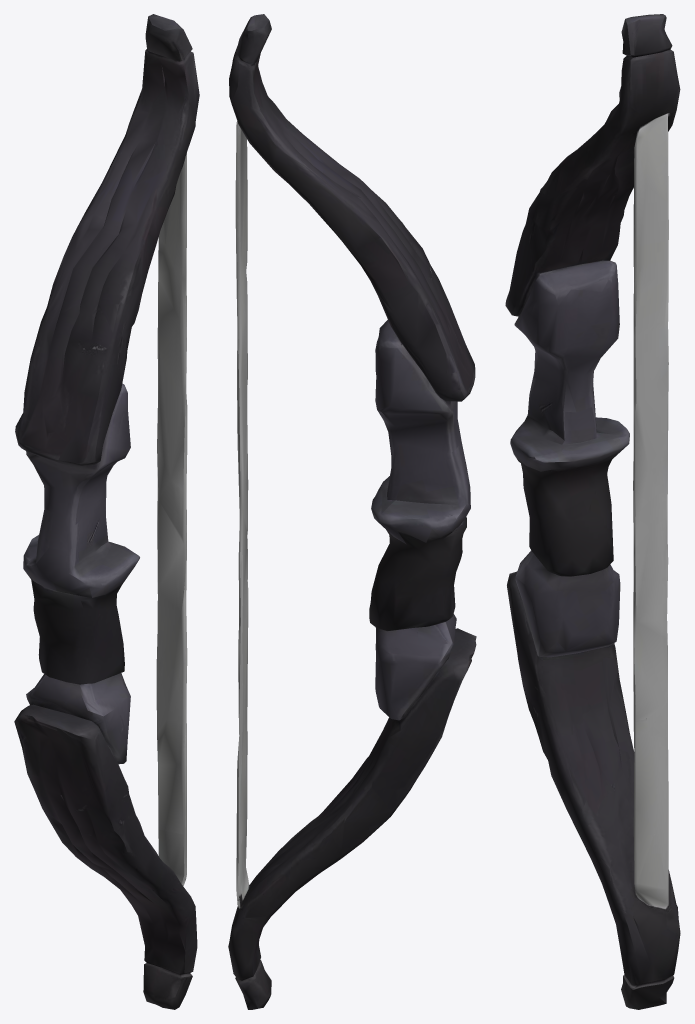
Rendered from bow_modern_idle.glb.
3 views of the same model, side by side, from view 1: azimuth 30°, elevation 25°; view 2: azimuth 150°, elevation 25°; view 3: azimuth 270°, elevation 25° (orthographic).
Visible parts, largest first — view 1: tripo_node_4e53c45a-bd72-4e06-bac4-391daf025435; view 2: tripo_node_4e53c45a-bd72-4e06-bac4-391daf025435; view 3: tripo_node_4e53c45a-bd72-4e06-bac4-391daf025435.
Boxes of the visible parts, x1=… form: tripo_node_4e53c45a-bd72-4e06-bac4-391daf025435: x1=14, y1=14, x2=199, y2=1009; tripo_node_4e53c45a-bd72-4e06-bac4-391daf025435: x1=228, y1=14, x2=476, y2=1009; tripo_node_4e53c45a-bd72-4e06-bac4-391daf025435: x1=505, y1=14, x2=680, y2=1009.
Size of the model in its own units: 0.2192 by 1 by 0.1599.
1 material, 1 textured.
